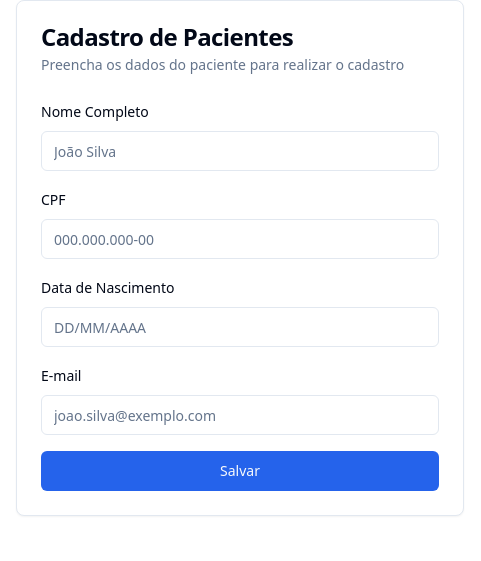
Test: PatientForm › deve validar e-mail inválido
In the field labelled "E-mail": (240, 415) [41,395,439,435], type "email-invalido"
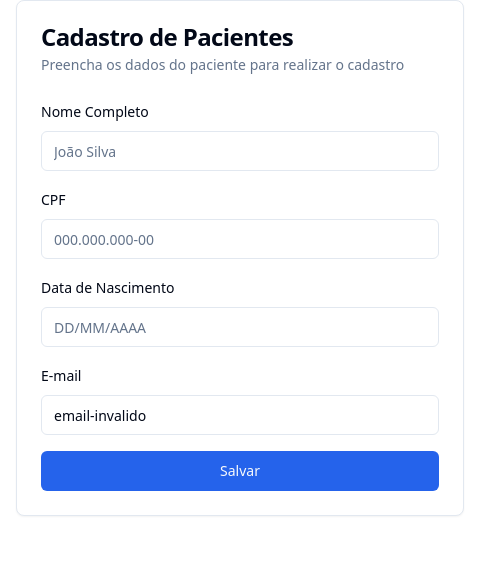
Leave the field labelled "E-mail", box [41,395,439,435]
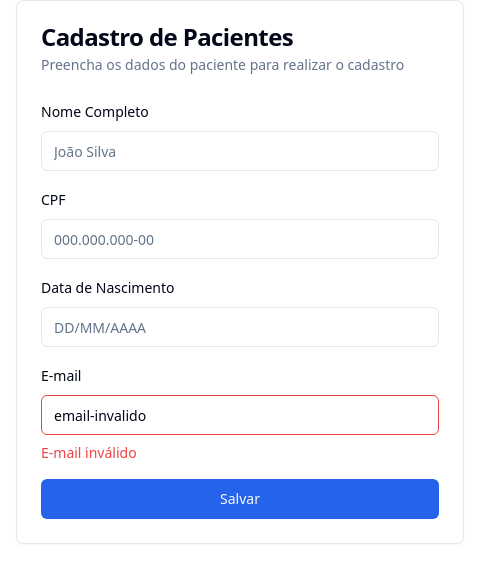
Now the text "E-mail inválido" is shown, box [41,443,137,462]
